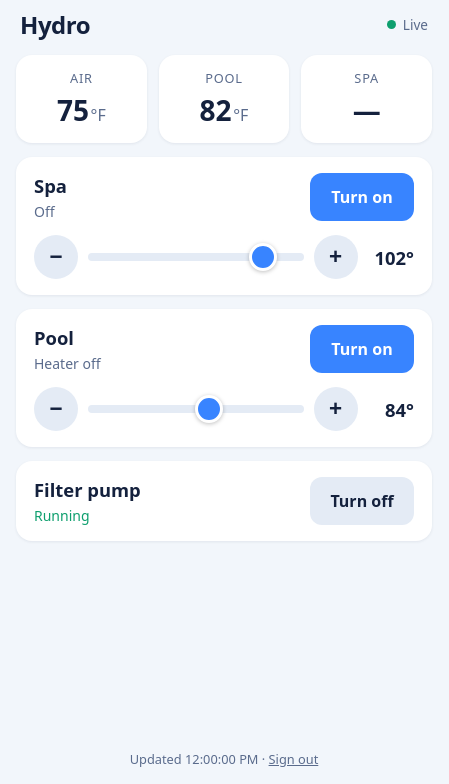
Scenario: actions › shows the API error message when an action fails
Click the 1st button "Turn on".
click(362, 197)  # box [310, 173, 414, 221]
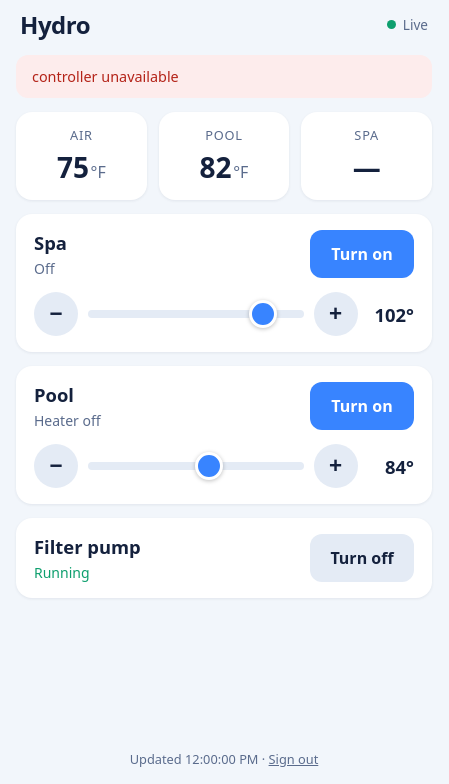
Check: the text "controller unavailable" is shown, box [16, 55, 432, 98]
